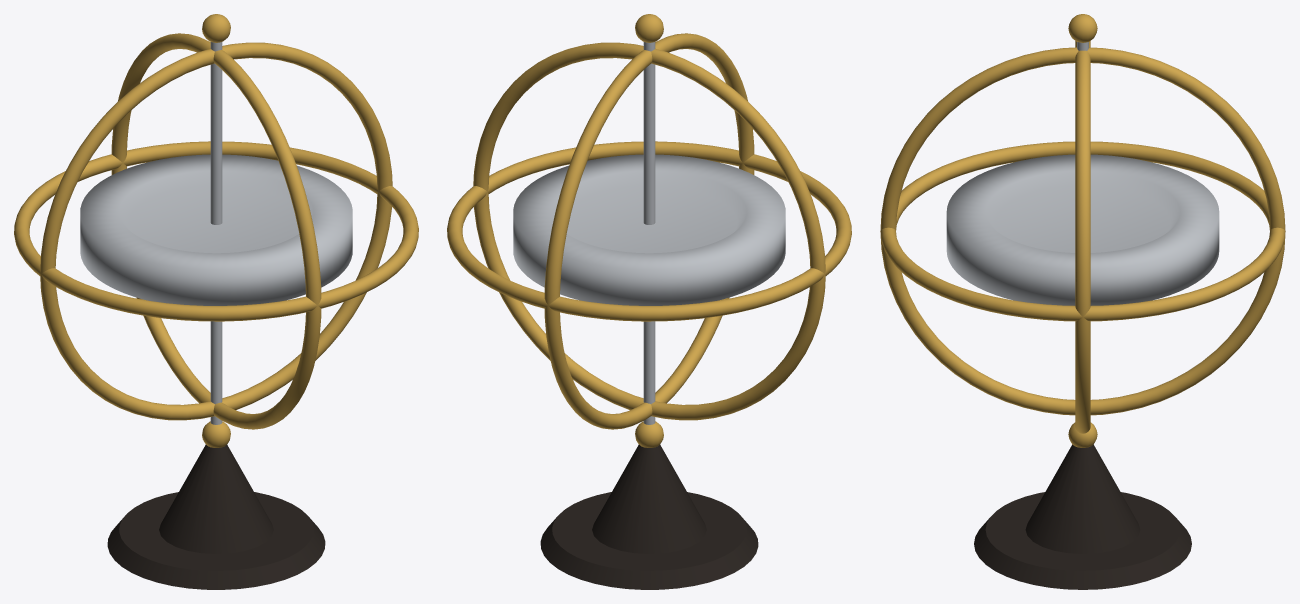
File: spinning-instrument.glb
3 renders of one model, left to right at view 1: azimuth 30°, elevation 25°; view 2: azimuth 150°, elevation 25°; view 3: azimuth 270°, elevation 25°, orthographic.
Visible parts, largest first — view 1: part3, part0, part2, part8, part1, part7, part4, part6, part5; view 2: part3, part0, part2, part8, part1, part7, part4, part6, part5; view 3: part3, part1, part2, part8, part7, part0, part6.
Part boxes in pixels (x1,y1,x2,y2): part3: [80, 154, 352, 305]; part0: [40, 42, 392, 420]; part2: [14, 141, 418, 321]; part8: [107, 492, 325, 589]; part1: [111, 33, 321, 429]; part7: [159, 444, 273, 553]; part4: [210, 42, 222, 424]; part6: [202, 14, 230, 42]; part5: [202, 421, 230, 447]; part3: [513, 154, 785, 305]; part0: [473, 42, 825, 420]; part2: [447, 141, 851, 321]; part8: [540, 492, 758, 589]; part1: [544, 33, 754, 429]; part7: [592, 444, 706, 553]; part4: [643, 42, 655, 424]; part6: [635, 14, 663, 42]; part5: [635, 421, 663, 447]; part3: [946, 154, 1219, 305]; part1: [880, 47, 1285, 415]; part2: [880, 141, 1285, 321]; part8: [974, 492, 1191, 589]; part7: [1025, 444, 1140, 553]; part0: [1075, 41, 1090, 433]; part6: [1068, 14, 1097, 42].
Bounding box in the file's own units: 2.08 × 3 × 2.08.
